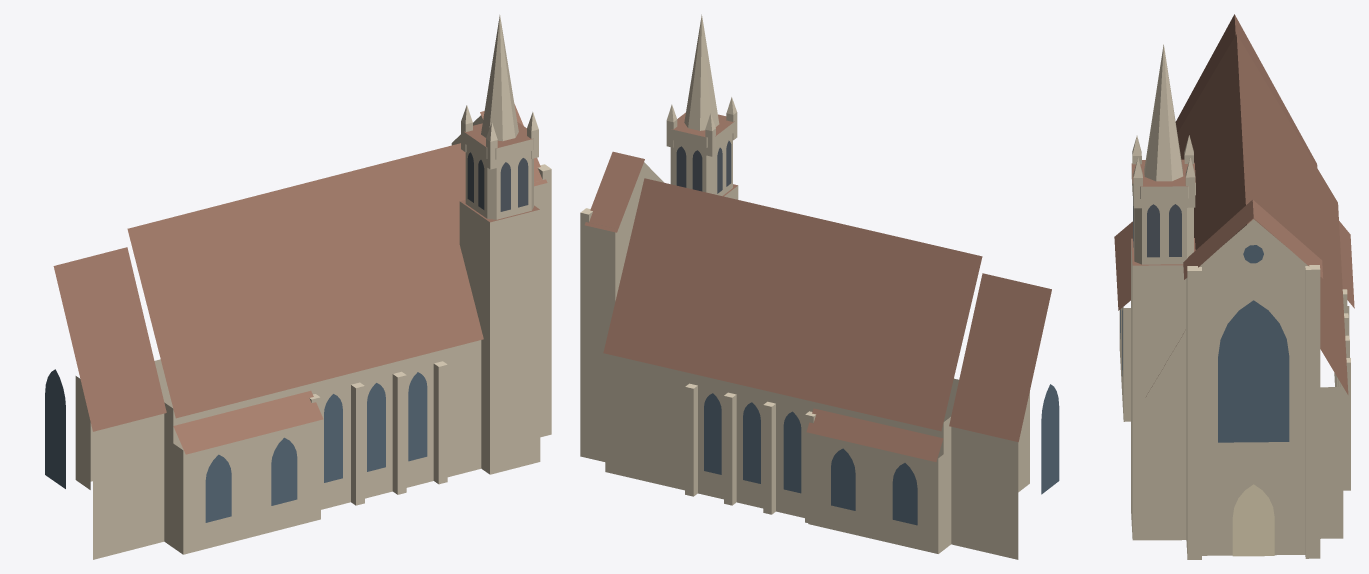
File: detail.glb
3 renders of one model, left to right at view 1: azimuth 30°, elevation 25°; view 2: azimuth 150°, elevation 25°; view 3: azimuth 270°, elevation 25°, orthographic. The views are drawn at different scales.
Parts seen in each view (by area): view 1: fourth-presbyterian-church; view 2: fourth-presbyterian-church; view 3: fourth-presbyterian-church.
Part boxes in pixels (x1,y1,x2,y2): fourth-presbyterian-church: (45, 15, 551, 559); fourth-presbyterian-church: (580, 14, 1059, 559); fourth-presbyterian-church: (1114, 14, 1354, 559).
Bounding box in the file's own units: 57.5 × 51 × 22.98.
